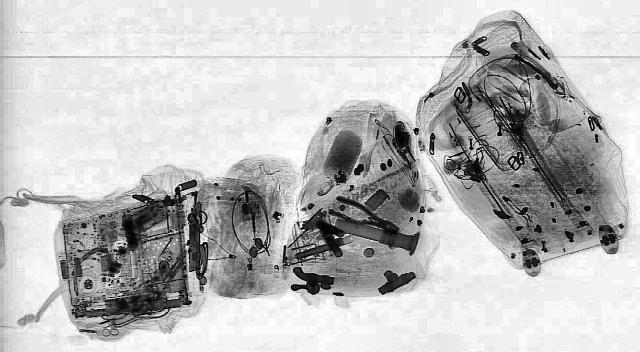Pliers: (316, 194, 408, 238)
